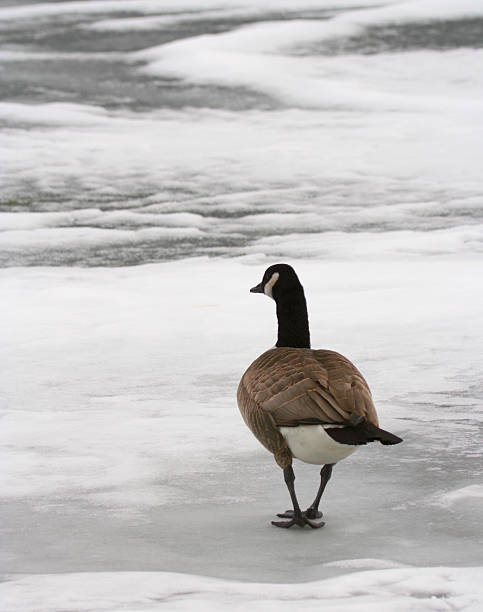goose: (233, 258, 406, 532)
